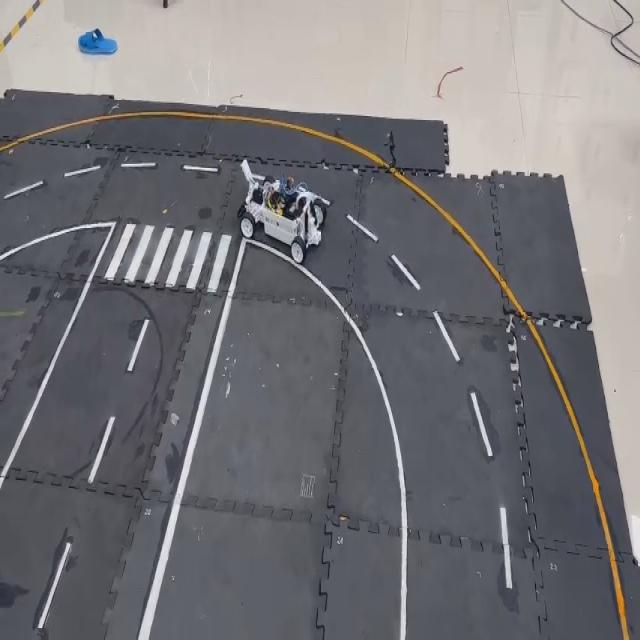SiCo-CAR: (235, 157, 328, 266)
